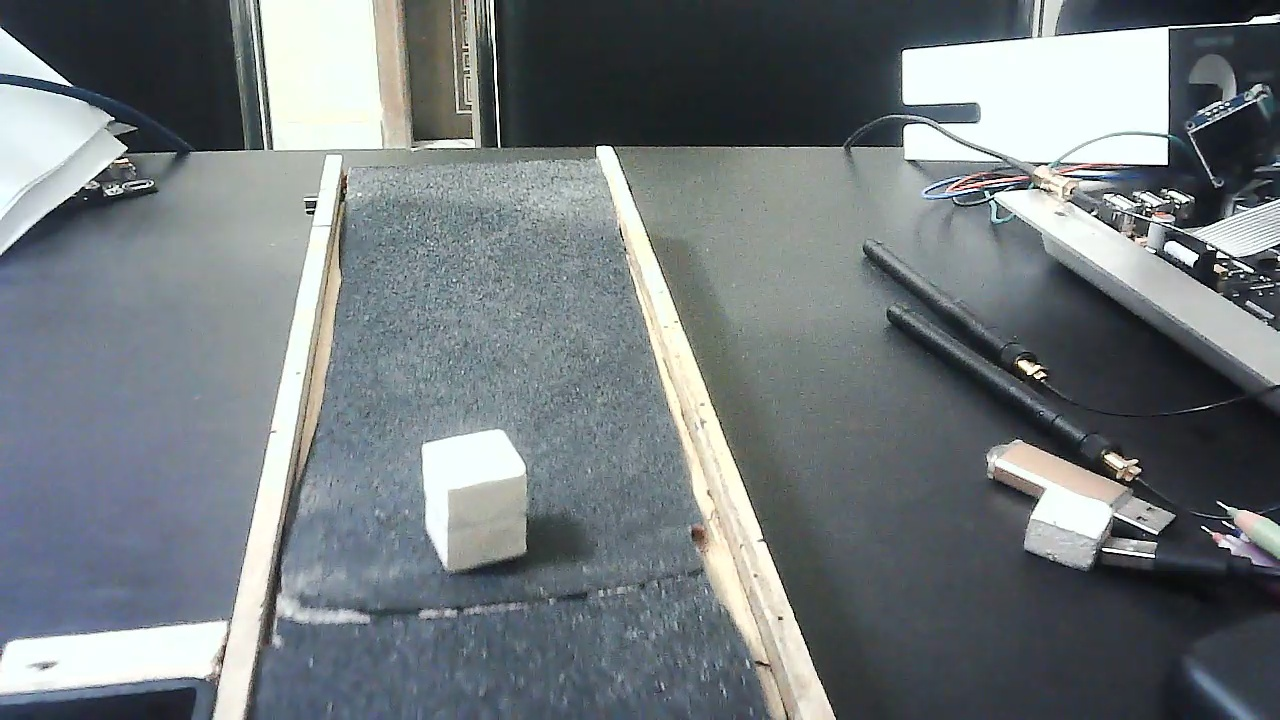Small: (404, 427, 550, 573)
